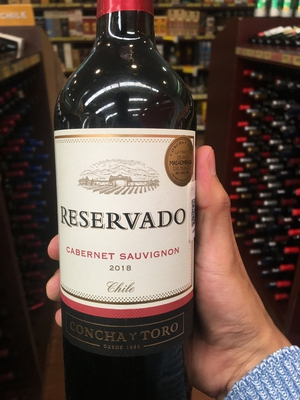reservado cabernet sauvignon: (49, 9, 238, 387)
